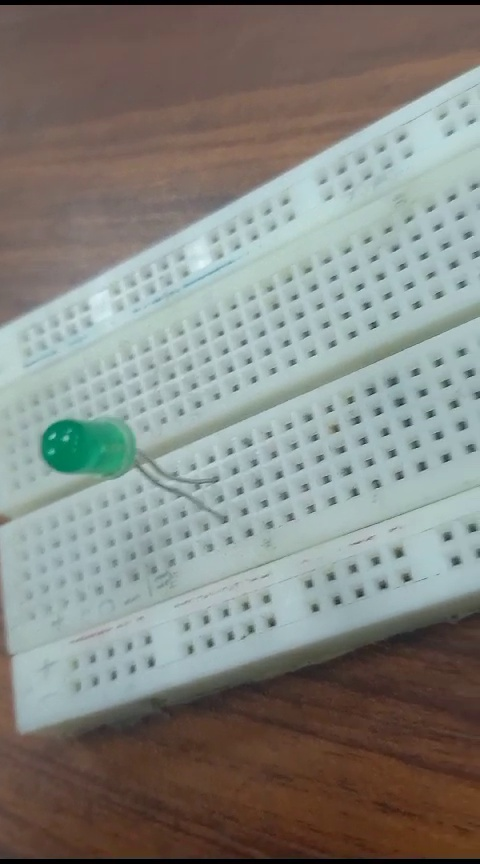LED: (27, 412, 240, 524)
